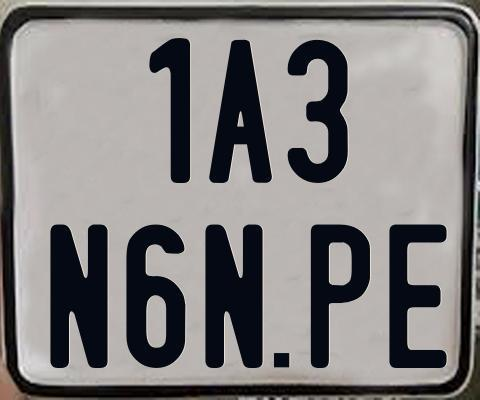1: (148, 38, 192, 186)
3: (286, 37, 347, 185)
6: (126, 224, 188, 374)
A: (209, 38, 278, 181)
E: (387, 221, 448, 367)
N: (205, 224, 268, 374), (48, 223, 106, 368)
P: (308, 222, 371, 370)
